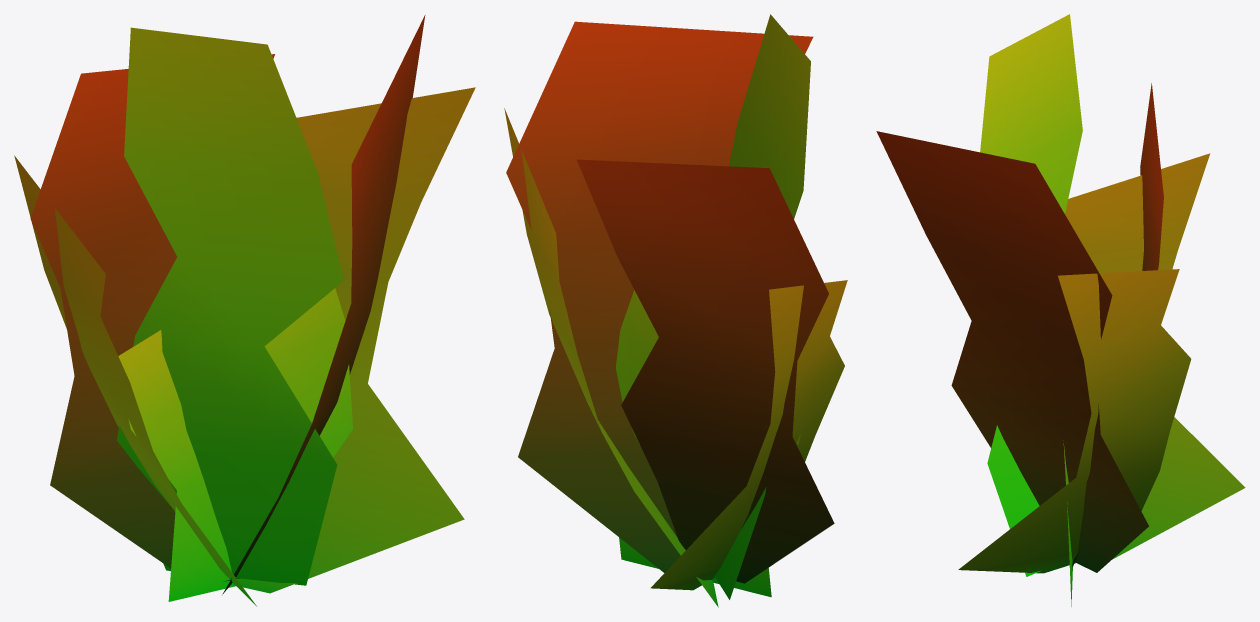
Rendered from Var8Hi51.fbx.
The picture shows the model from 3 angles, left to right: view 1: azimuth 30°, elevation 25°; view 2: azimuth 150°, elevation 25°; view 3: azimuth 270°, elevation 25°; orthographic projection. The views are drawn at different scales.
Parts seen in each view (by area): view 1: bend1; view 2: bend1; view 3: bend1.
Boxes of the visible parts, x1,y1,x2,y2 form: bend1: (14, 15, 475, 606); bend1: (504, 14, 847, 607); bend1: (876, 14, 1245, 606).
Size of the model in its own units: 1.26 by 1.77 by 1.17.
